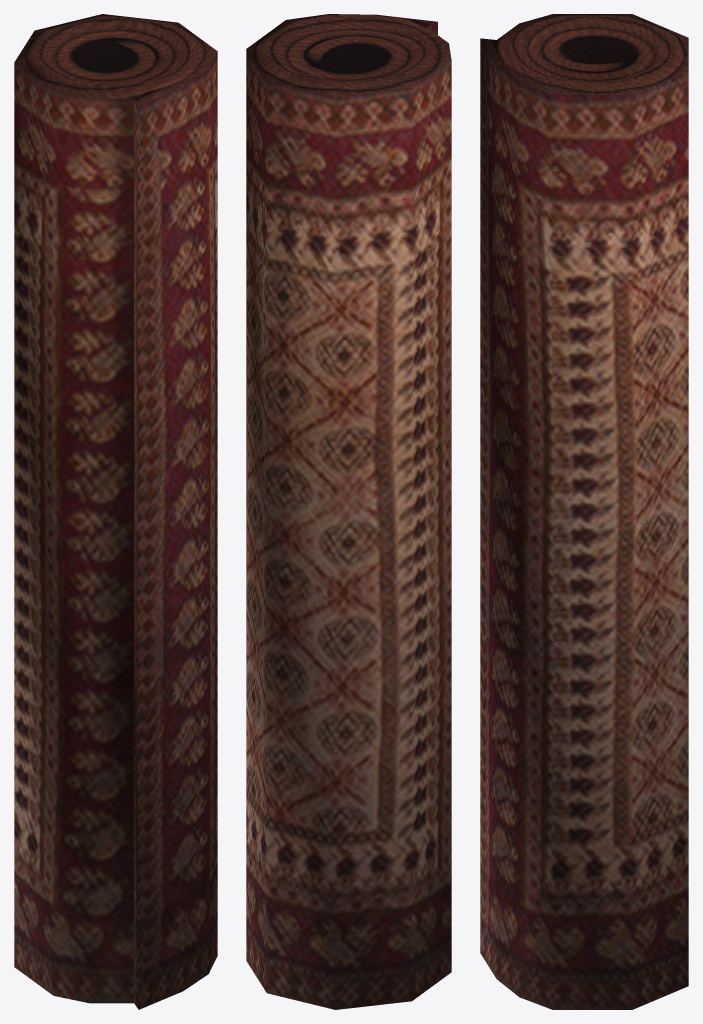
Rendered from CarpetRolled.fbx.
The picture shows the model from 3 angles, left to right: view 1: azimuth 30°, elevation 25°; view 2: azimuth 150°, elevation 25°; view 3: azimuth 270°, elevation 25°; orthographic projection.
Visible parts, largest first — view 1: Carpet_rolled; view 2: Carpet_rolled; view 3: Carpet_rolled.
Boxes of the visible parts, bbox=[...] form: Carpet_rolled: bbox=[14, 14, 217, 1009]; Carpet_rolled: bbox=[246, 14, 451, 1009]; Carpet_rolled: bbox=[480, 14, 688, 1009].
Bounding box in the file's own units: 25.87 × 138 × 28.07.
